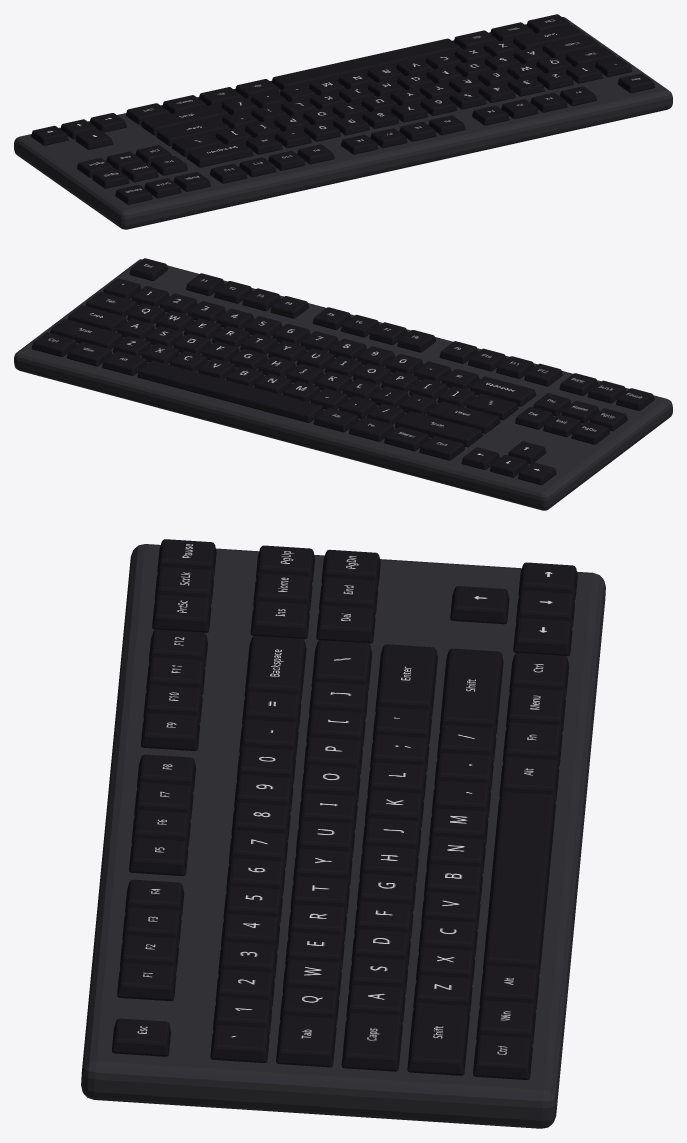
The model's file is keyboard.glb.
The picture shows the model from 3 angles, top to bottom: view 1: azimuth 30°, elevation 25°; view 2: azimuth 150°, elevation 25°; view 3: azimuth 270°, elevation 25°; orthographic projection. The views are drawn at different scales.
Parts seen in each view (by area): view 1: keyboard_keys, keyboard_case; view 2: keyboard_keys, keyboard_case; view 3: keyboard_keys, keyboard_case.
Part boxes in pixels (x1=…): keyboard_keys: x1=31, y1=14, x2=655, y2=204; keyboard_case: x1=14, y1=17, x2=672, y2=229; keyboard_keys: x1=31, y1=258, x2=654, y2=485; keyboard_case: x1=14, y1=259, x2=672, y2=510; keyboard_keys: x1=112, y1=539, x2=577, y2=1079; keyboard_case: x1=81, y1=544, x2=605, y2=1128.
Size of the model in its own units: 0.3657 by 0.0234 by 0.1516.
Materials: 3 (1 with a texture image).
